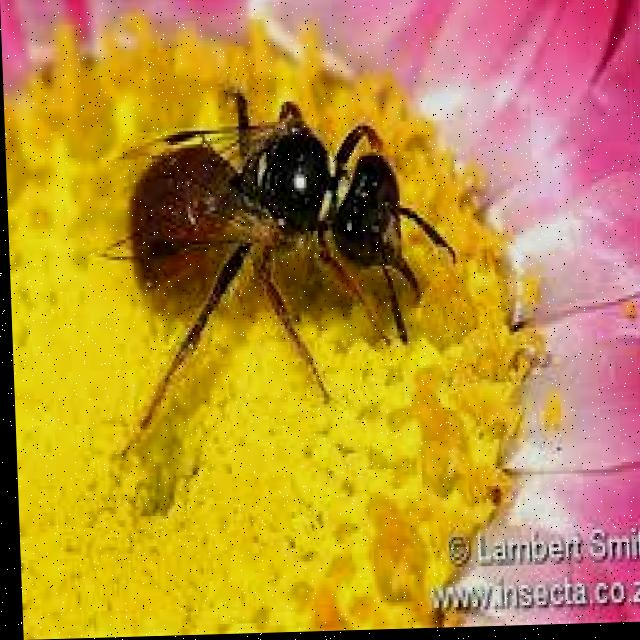Allodapula: (98, 78, 464, 452)
